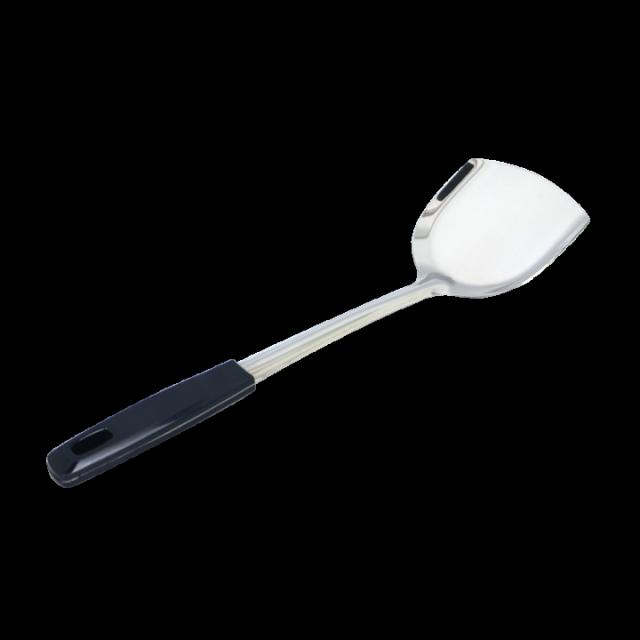Spatula: (36, 140, 599, 526)
